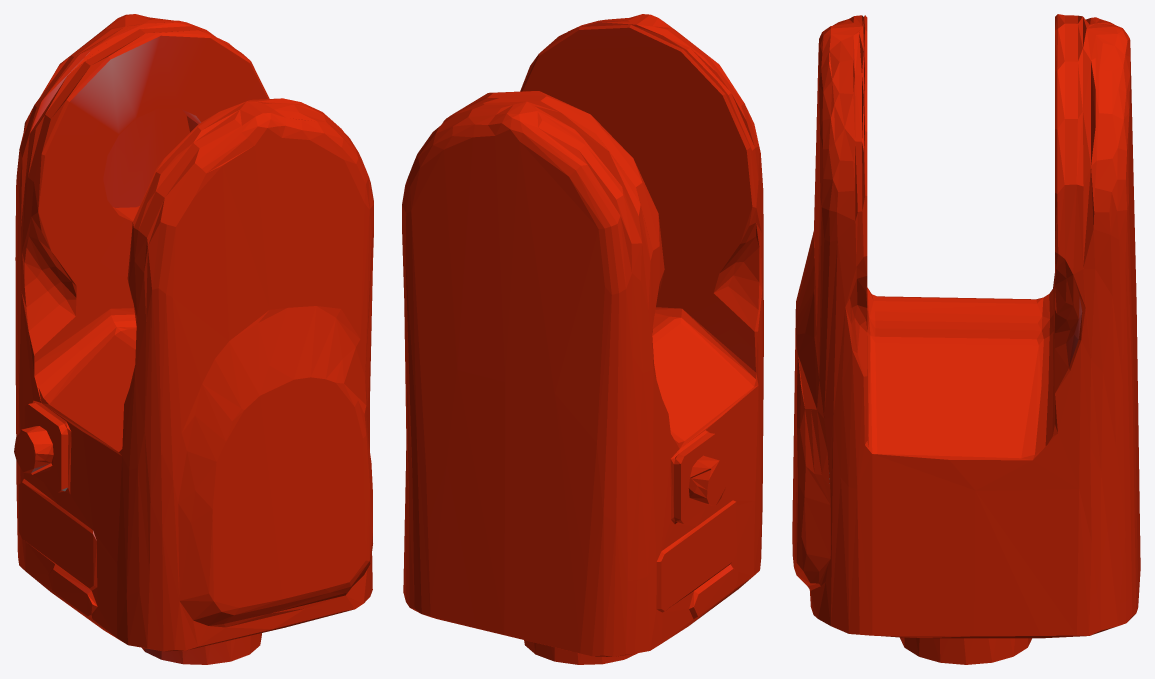
The model's file is DensoVS060Link4.dae.
3 renders of one model, left to right at view 1: azimuth 30°, elevation 25°; view 2: azimuth 150°, elevation 25°; view 3: azimuth 270°, elevation 25°, orthographic. The views are drawn at different scales.
Visible parts, largest first — view 1: DensoVS060Link4; view 2: DensoVS060Link4; view 3: DensoVS060Link4.
Boxes of the visible parts, box(x1,y1,x2,y2) form: DensoVS060Link4: box(14, 14, 373, 664); DensoVS060Link4: box(402, 14, 763, 664); DensoVS060Link4: box(792, 14, 1140, 664).
Size of the model in its own units: 0.1019 by 0.104 by 0.201.
